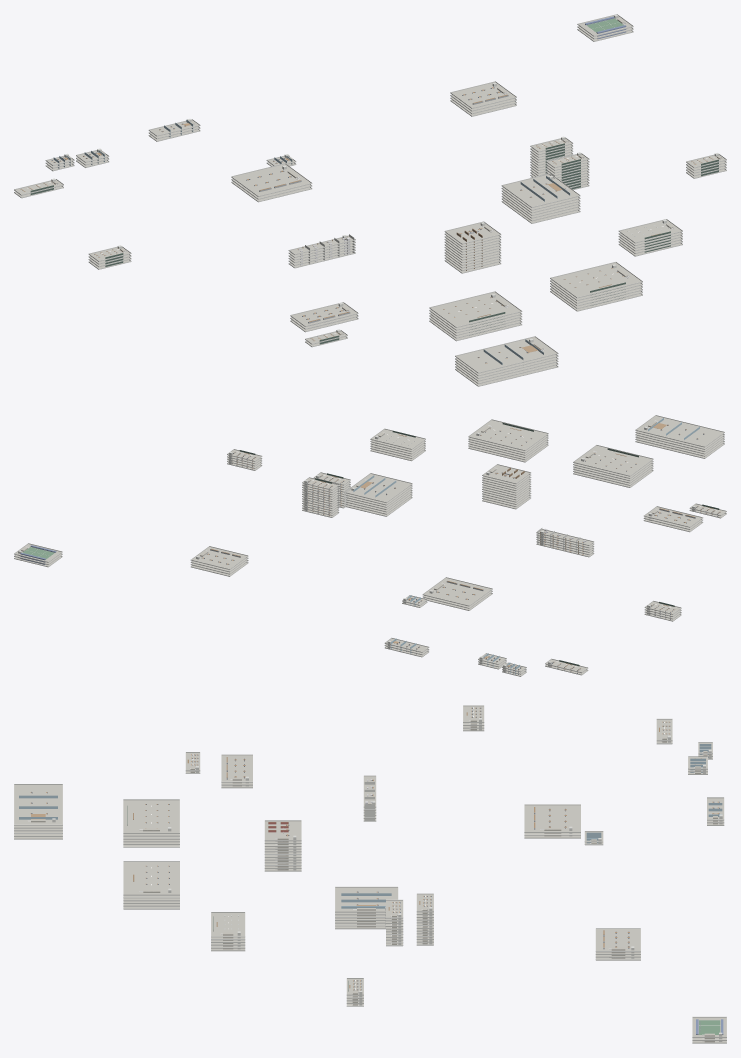
File: campus_interiors.glb
3 views of the same model, one above another, from view 1: azimuth 30°, elevation 25°; view 2: azimuth 150°, elevation 25°; view 3: azimuth 270°, elevation 25° (orthographic). The views are drawn at different scales.
Visible parts, largest first — view 1: IN_p00_L5_all, IN_p01_L5_all, IN_p02_L5_all, IN_p13_L6_all, IN_p17_L2_all, IN_p19_L3_all, IN_p04_L2_all, IN_pZX_L5_all, IN_p07_L11_all, IN_p30_L2_all; view 2: IN_p00_L5_all, IN_p01_L5_all, IN_p02_L5_all, IN_p13_L6_all, IN_p17_L2_all, IN_p19_L3_all, IN_p04_L2_all, IN_pZX_L5_all, IN_p07_L11_all, IN_p30_L2_all; view 3: IN_p00_L5_all, IN_p01_L5_all, IN_p02_L5_all, IN_p17_L2_all, IN_p13_L6_all, IN_p19_L3_all, IN_p04_L2_all, IN_pZX_L5_all, IN_p07_L11_all, IN_p30_L2_all.
Part boxes in pixels (x1=…): IN_p00_L5_all: x1=455, y1=336, x2=558, y2=373; IN_p01_L5_all: x1=550, y1=261, x2=642, y2=298; IN_p02_L5_all: x1=429, y1=291, x2=522, y2=327; IN_p13_L6_all: x1=501, y1=173, x2=580, y2=207; IN_p17_L2_all: x1=231, y1=163, x2=312, y2=196; IN_p19_L3_all: x1=450, y1=81, x2=516, y2=108; IN_p04_L2_all: x1=290, y1=302, x2=358, y2=326; IN_pZX_L5_all: x1=618, y1=219, x2=682, y2=243; IN_p07_L11_all: x1=444, y1=221, x2=501, y2=244; IN_p30_L2_all: x1=577, y1=14, x2=633, y2=36; IN_p00_L5_all: x1=635, y1=415, x2=724, y2=447; IN_p01_L5_all: x1=468, y1=419, x2=548, y2=450; IN_p02_L5_all: x1=573, y1=444, x2=653, y2=476; IN_p13_L6_all: x1=344, y1=473, x2=412, y2=502; IN_p17_L2_all: x1=422, y1=577, x2=492, y2=606; IN_p19_L3_all: x1=190, y1=546, x2=248, y2=569; IN_p04_L2_all: x1=644, y1=506, x2=703, y2=527; IN_pZX_L5_all: x1=370, y1=428, x2=425, y2=449; IN_p07_L11_all: x1=482, y1=464, x2=531, y2=483; IN_p30_L2_all: x1=14, y1=543, x2=62, y2=562; IN_p00_L5_all: x1=14, y1=784, x2=62, y2=825; IN_p01_L5_all: x1=123, y1=861, x2=179, y2=895; IN_p02_L5_all: x1=123, y1=799, x2=179, y2=833; IN_p17_L2_all: x1=524, y1=804, x2=580, y2=832; IN_p13_L6_all: x1=335, y1=886, x2=398, y2=912; IN_p19_L3_all: x1=595, y1=928, x2=640, y2=952; IN_p04_L2_all: x1=221, y1=754, x2=252, y2=782; IN_pZX_L5_all: x1=211, y1=912, x2=245, y2=937; IN_p07_L11_all: x1=264, y1=820, x2=301, y2=841; IN_p30_L2_all: x1=692, y1=1016, x2=726, y2=1037.
Size of the model in its own units: 1020 by 51.95 by 934.
